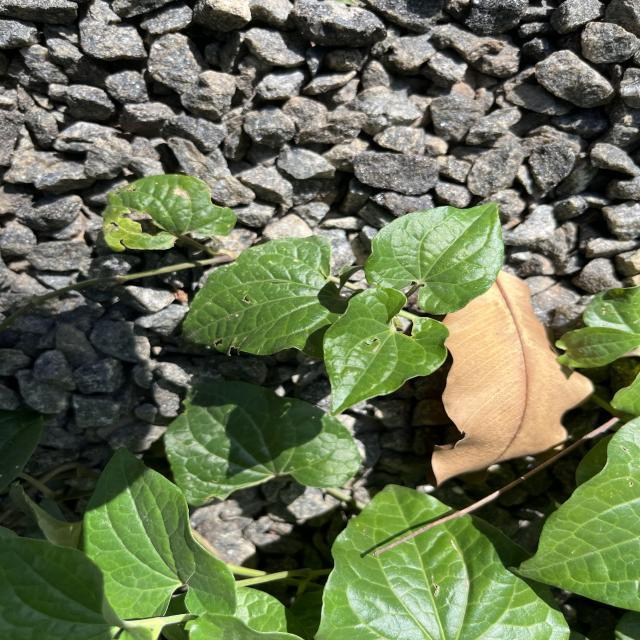Piper longum: (180, 234, 350, 362), (361, 200, 507, 318), (320, 286, 450, 418)
